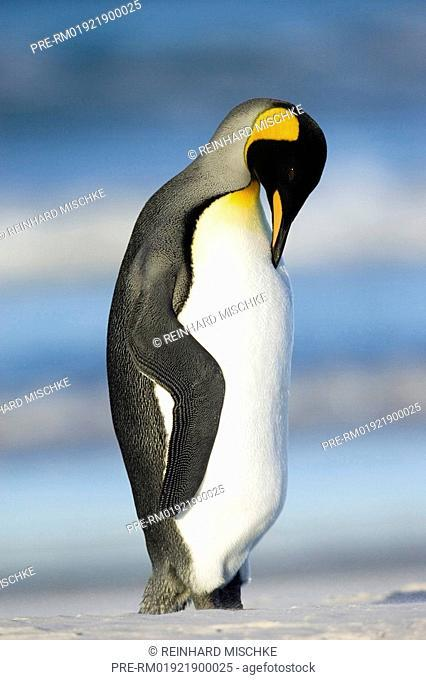king: (99, 77, 363, 623)
